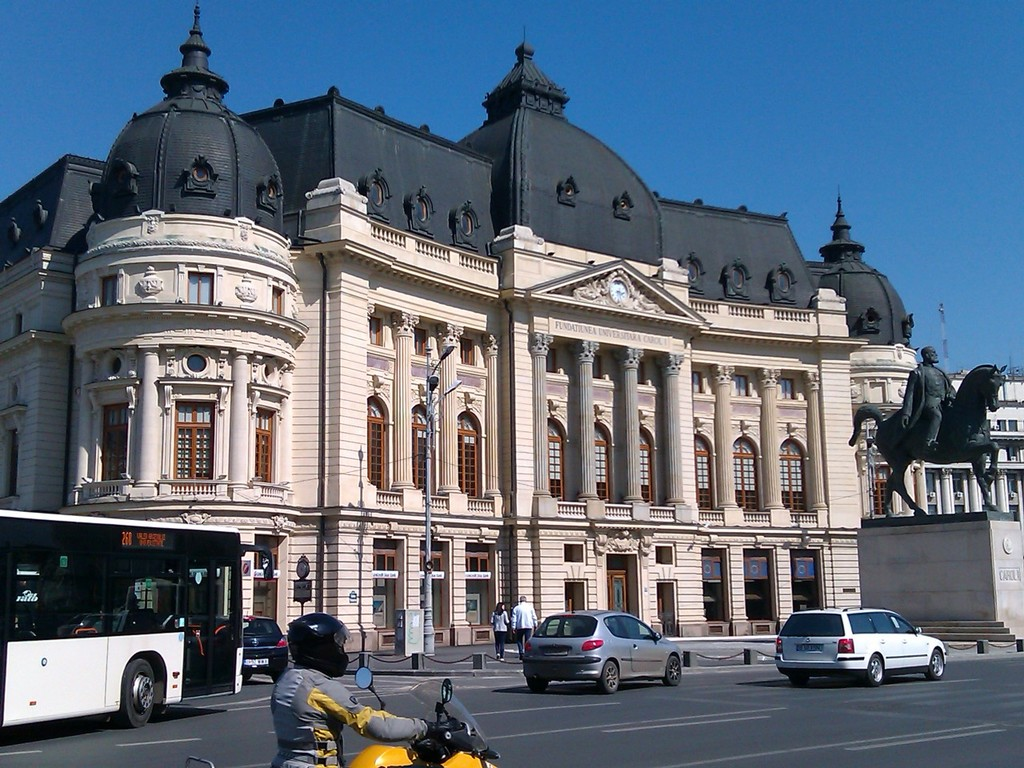Car: (522, 609, 685, 692), (778, 608, 942, 684)
